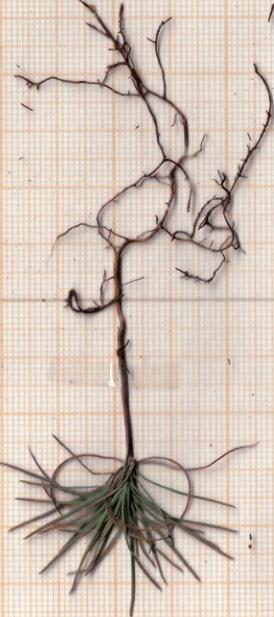Seeding: (0, 1, 274, 617)
